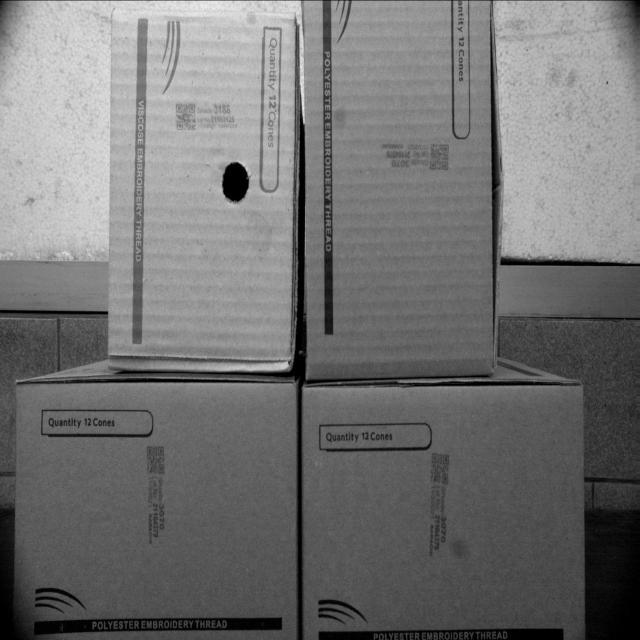box: (301, 0, 499, 379), (13, 378, 300, 639), (302, 383, 586, 639), (112, 6, 296, 375)
